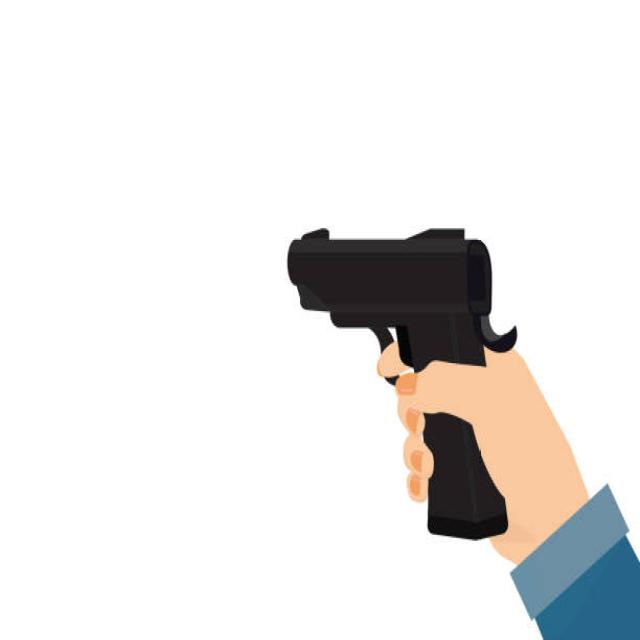HandGun: (288, 228, 518, 375)
